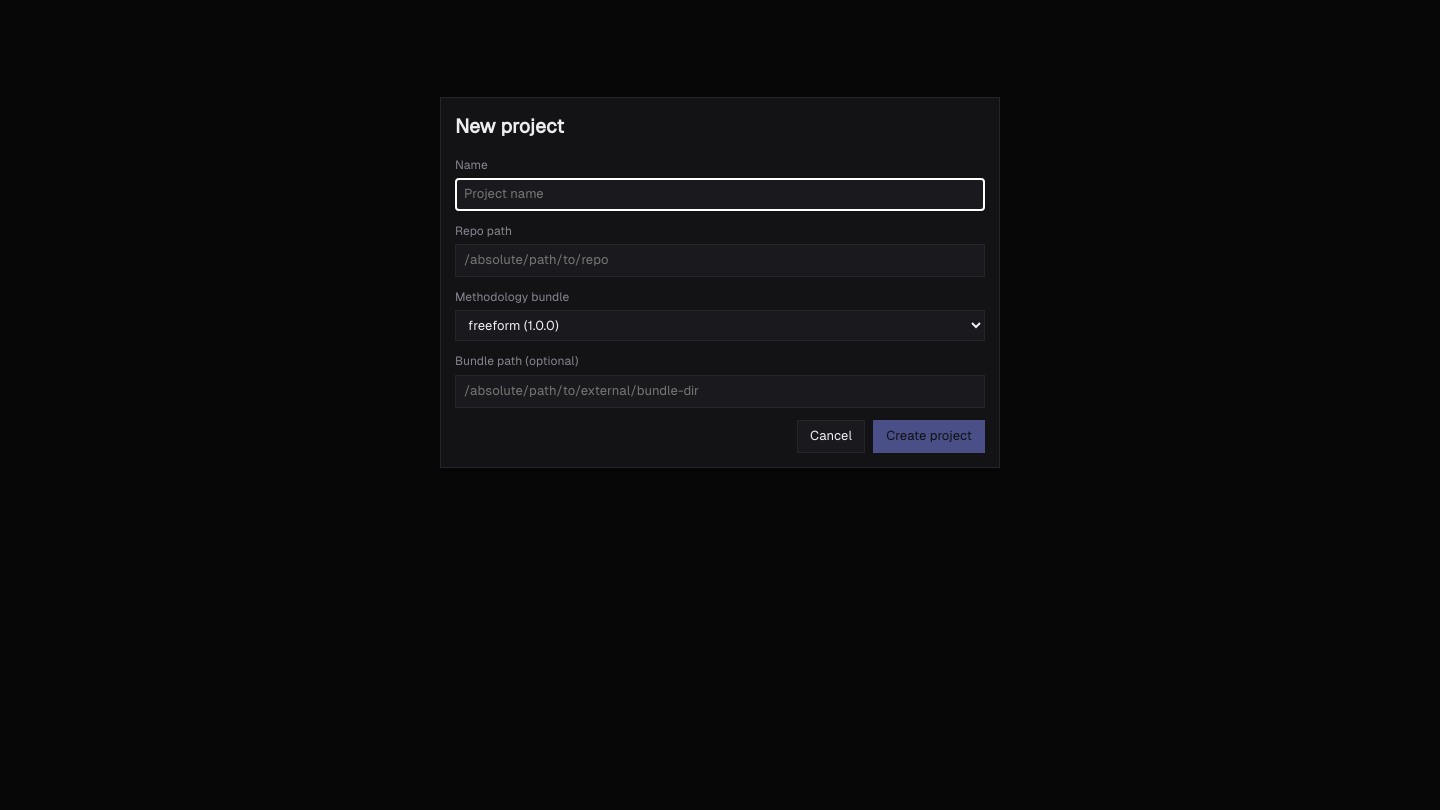
NewProjectModal › disables submit until name and repo path are filled
Check: the button with test id "new-project-submit" is disabled, box x1=873 y1=420 x2=985 y2=452
Type "Alpha" into the field with test id "new-project-name" at (720, 194), box x1=455 y1=178 x2=985 y2=211
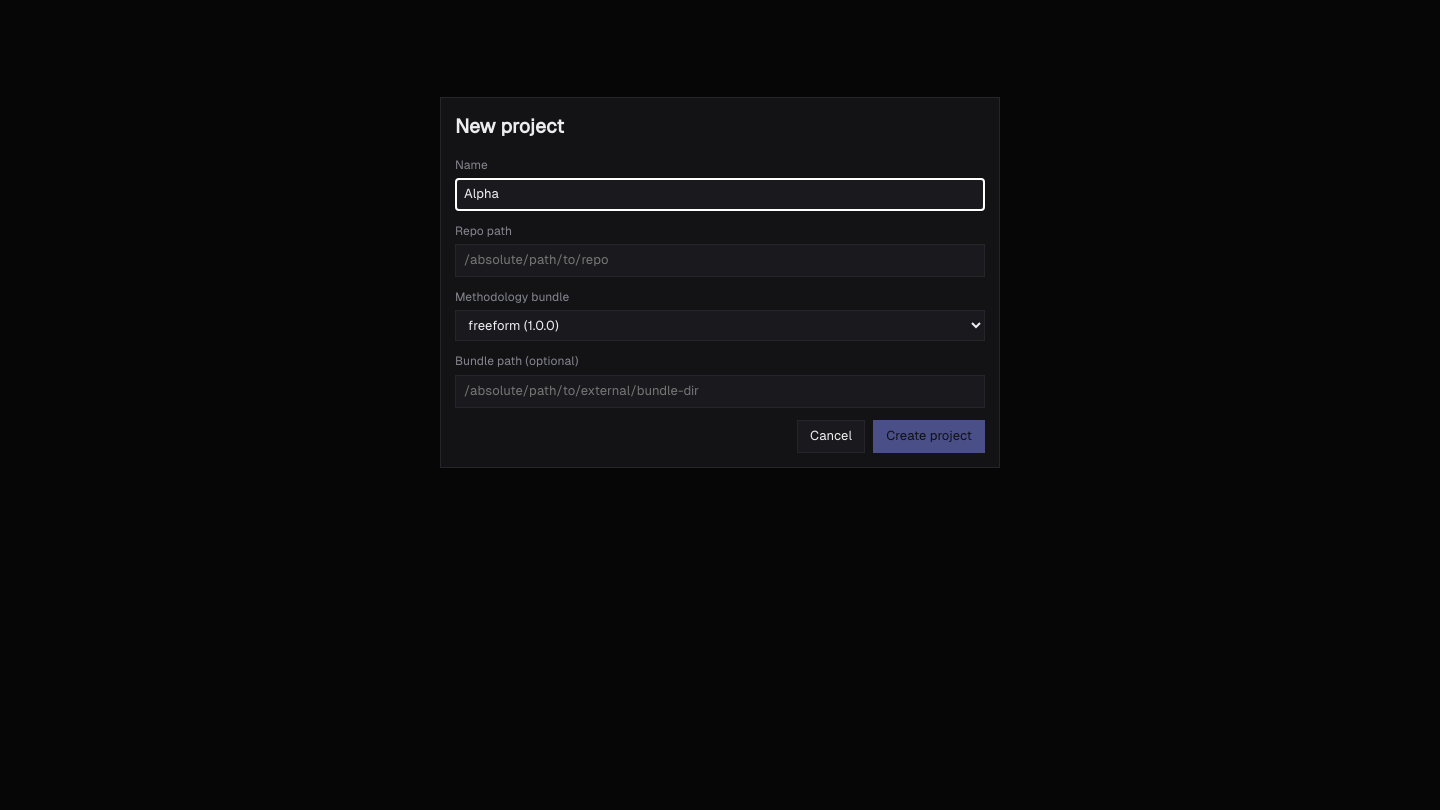
Check: the button with test id "new-project-submit" is disabled, box x1=873 y1=420 x2=985 y2=452
Type "/tmp/alpha" into the field with test id "new-project-repo" at (720, 261), box x1=455 y1=244 x2=985 y2=277
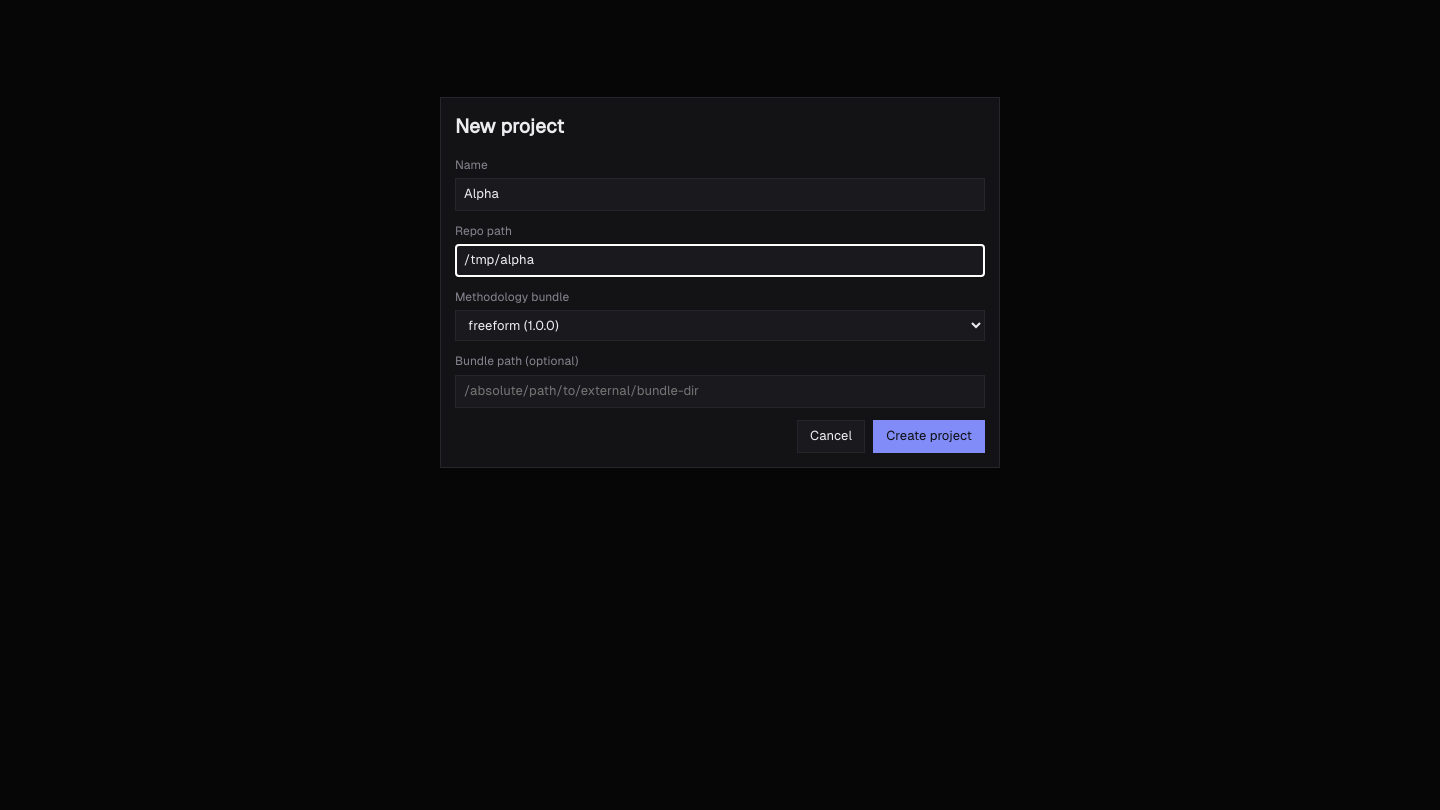
Check: the button with test id "new-project-submit" is enabled, box x1=873 y1=420 x2=985 y2=452
